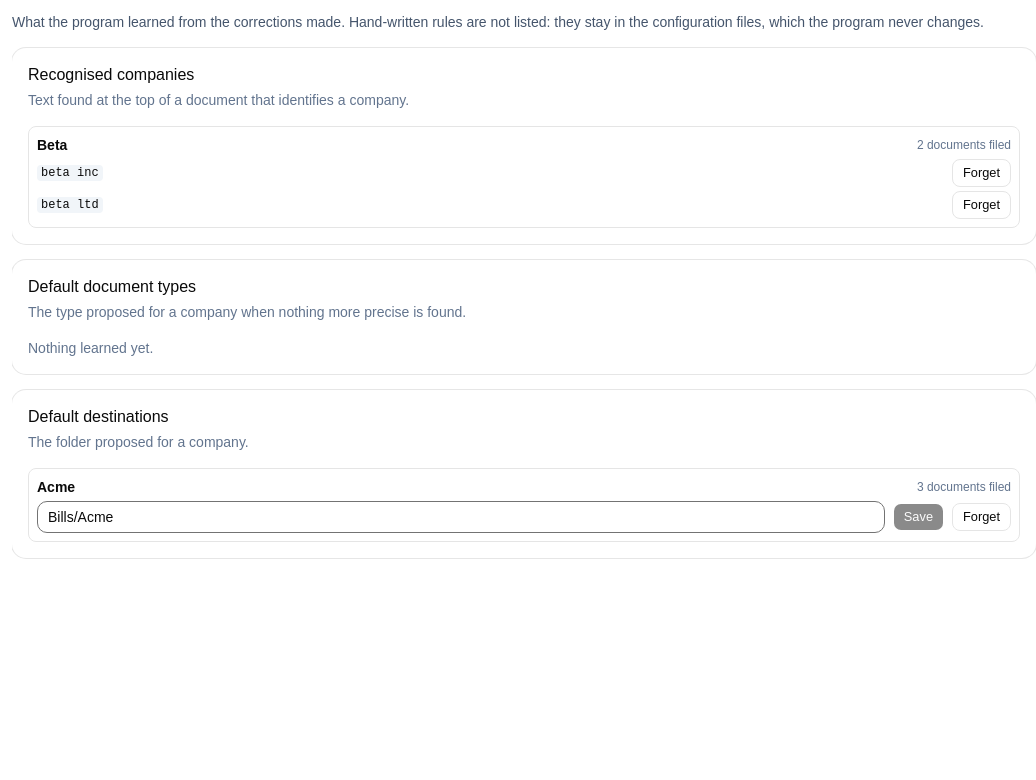
it: a saved destination stays on screen until the rules are reloaded, and when the reload fails too, with both messages
Replace the text in the field named "Destination of Acme" with "Bills/Hydro" at (461, 517), box [37,501,885,533]
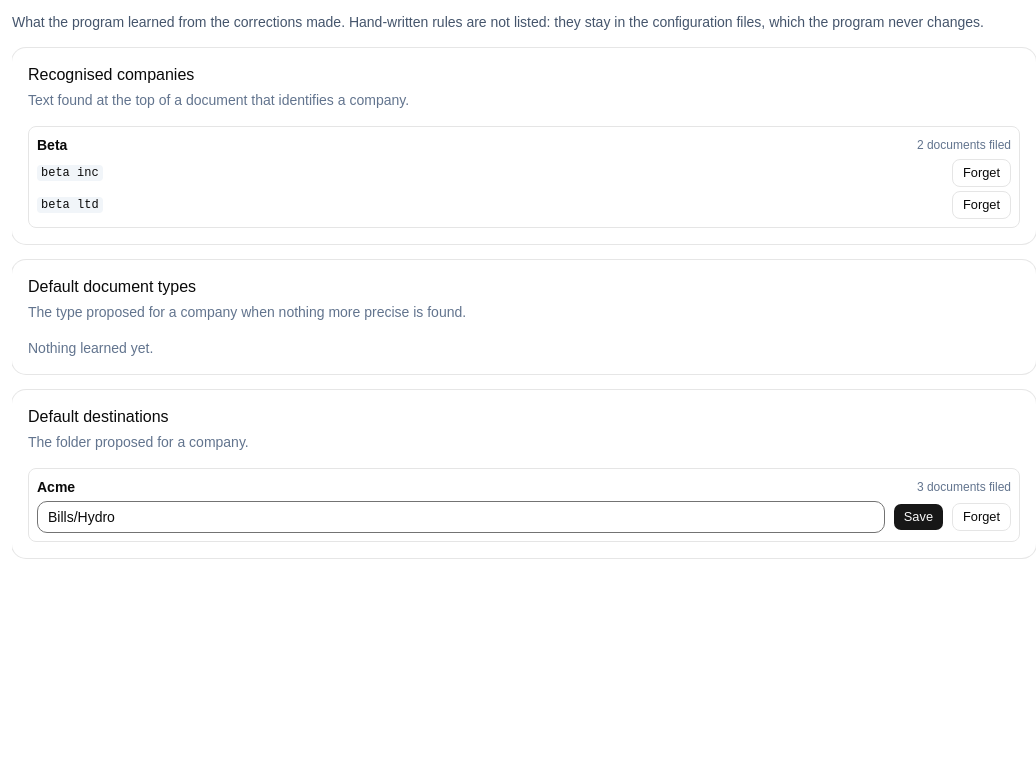
Submit the form named "Destination of Acme", box [37,501,1011,533]
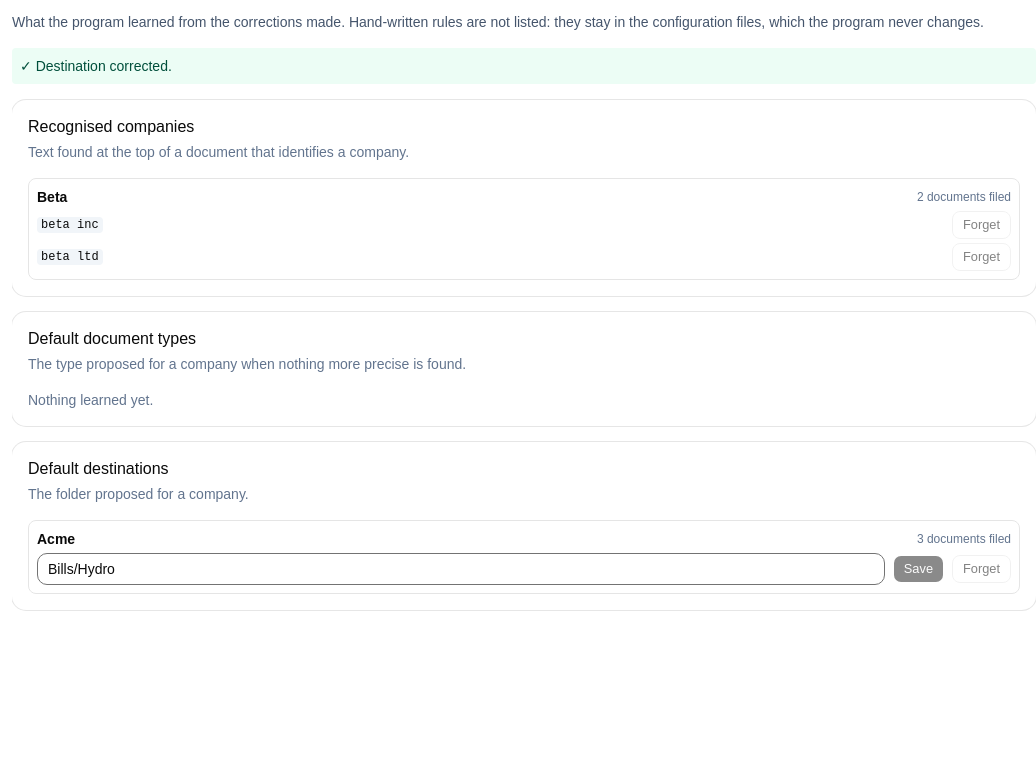
Result: the text "Destination corrected." is shown at [36,58,172,74]
Replace the text in the field named "Destination of Acme" with "Bills/Water" at (461, 569), box [37,553,885,585]
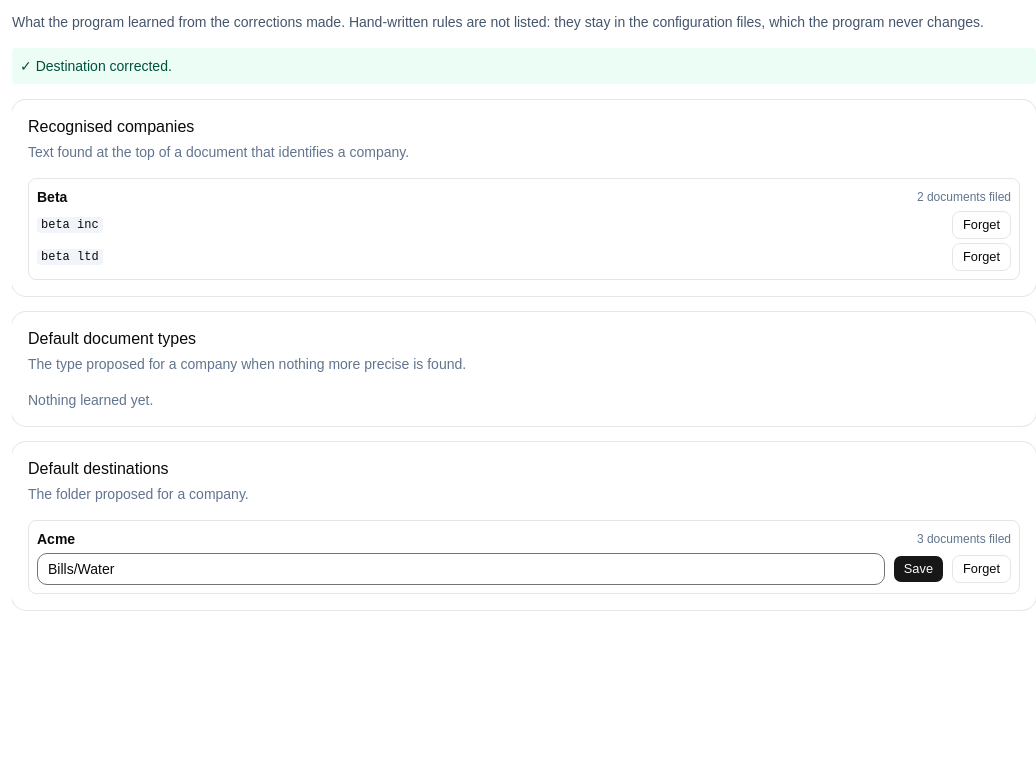
Submit the form named "Destination of Acme", box [37,553,1011,585]
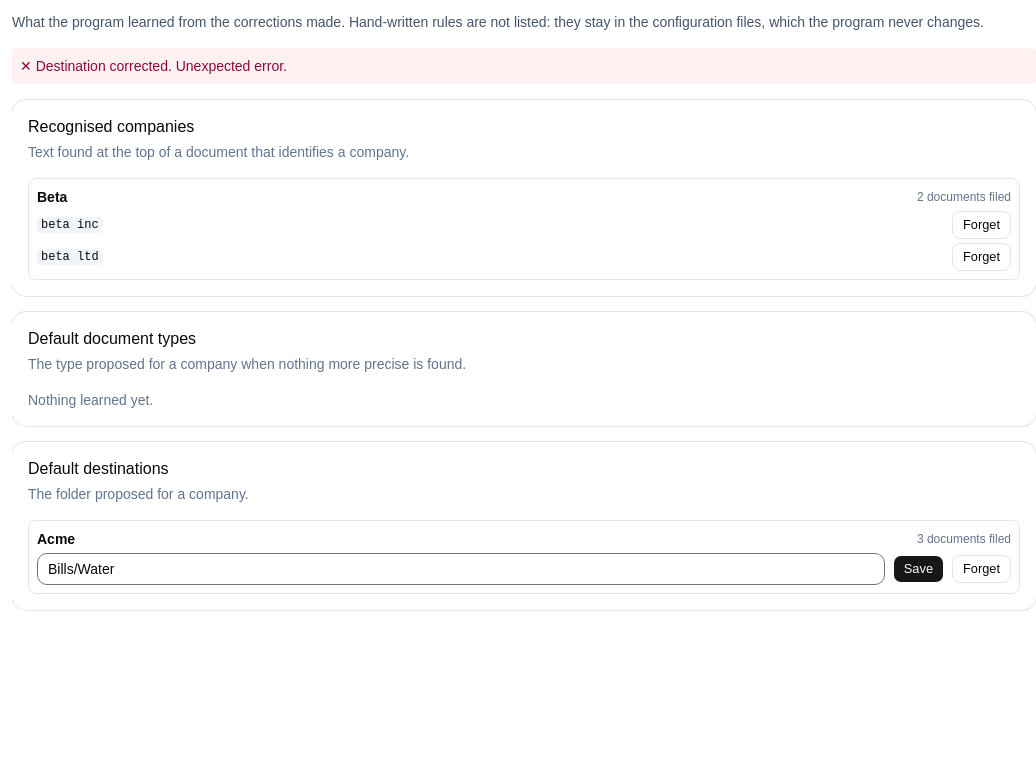
Expected: the text "Beta" is shown, [37,187,67,207]
Result: the message shows "Unexpected error." at [36,58,287,74]
